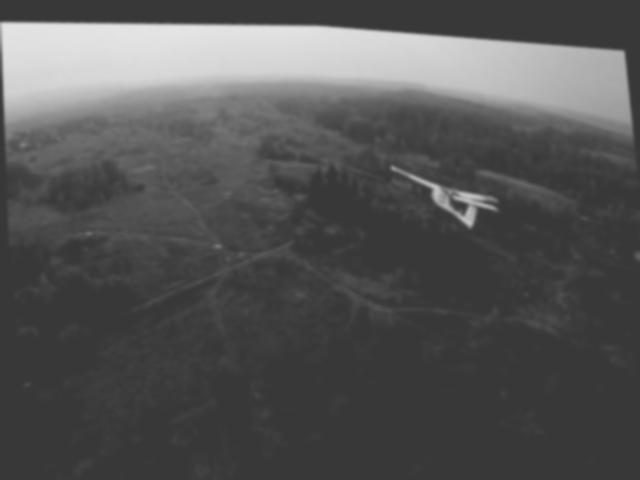hedef: (379, 142, 505, 239)
